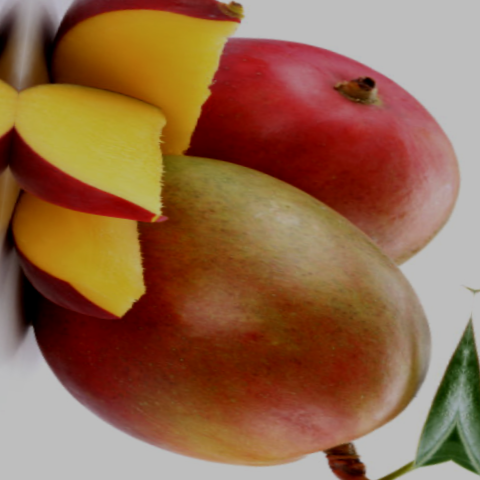mango: (5, 119, 459, 480)
